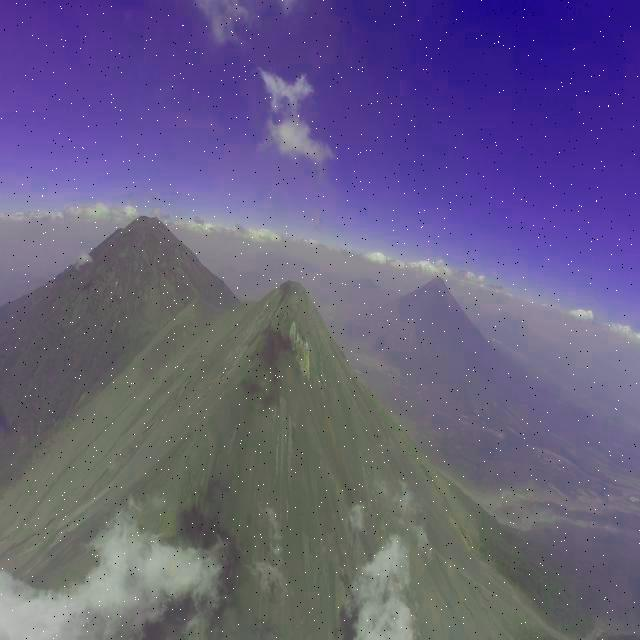Summit: (232, 274, 348, 381)
